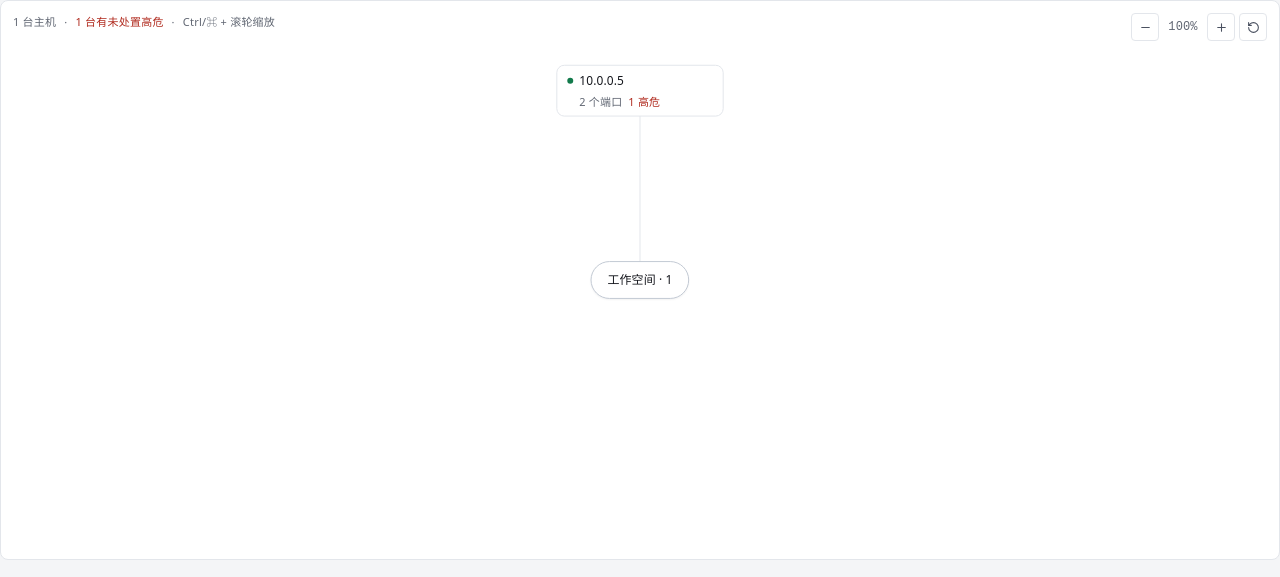
Test: 缩放按钮改变百分比，重置回到 100%
Expected: the text "100%" is shown, [1168,20,1198,34]
Click the button named "放大".
click(1221, 27)  # box [1207,13,1235,41]
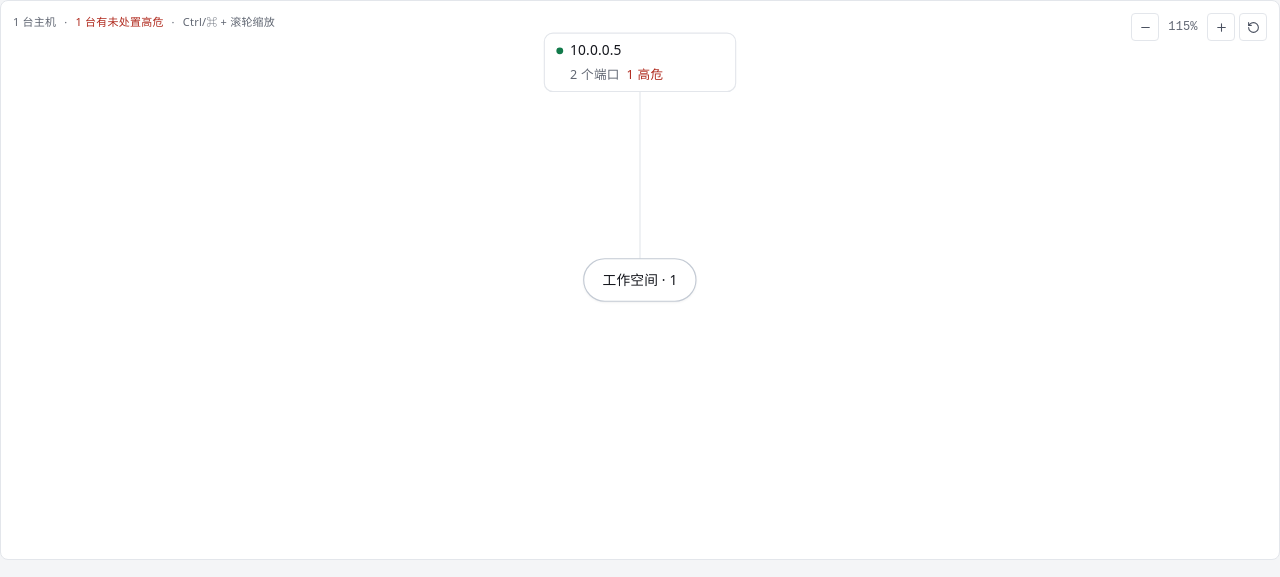
Now the text "115%" is shown, box [1168,20,1198,34]
Click the button named "重置视图".
click(1253, 27)  # box [1239,13,1267,41]
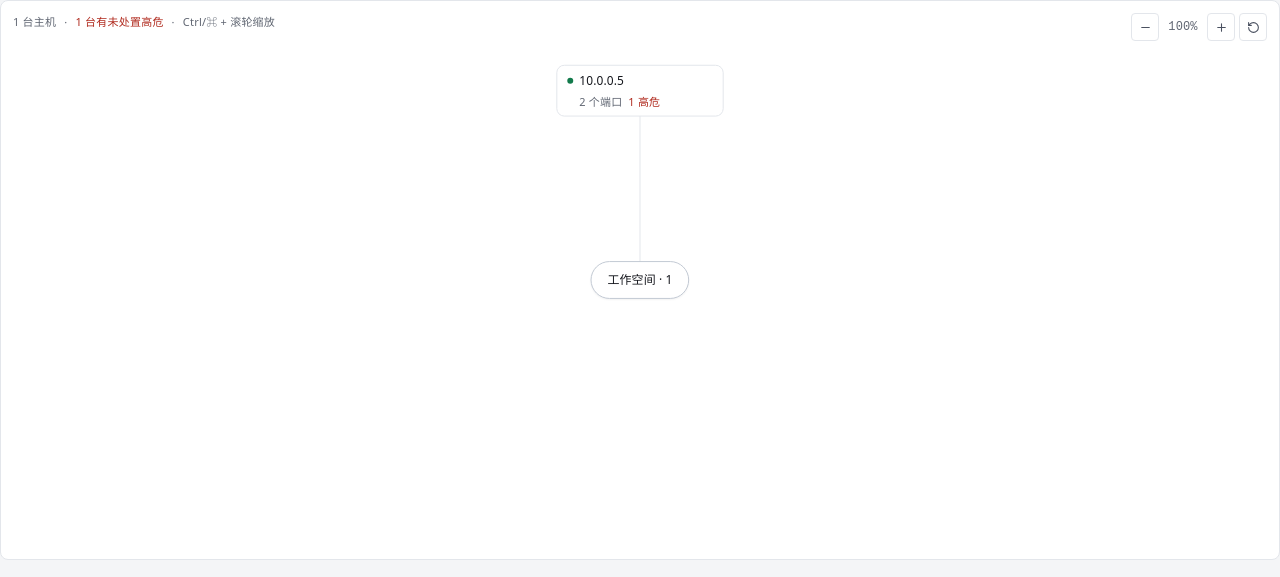
Now the text "100%" is shown, box [1168,20,1198,34]
